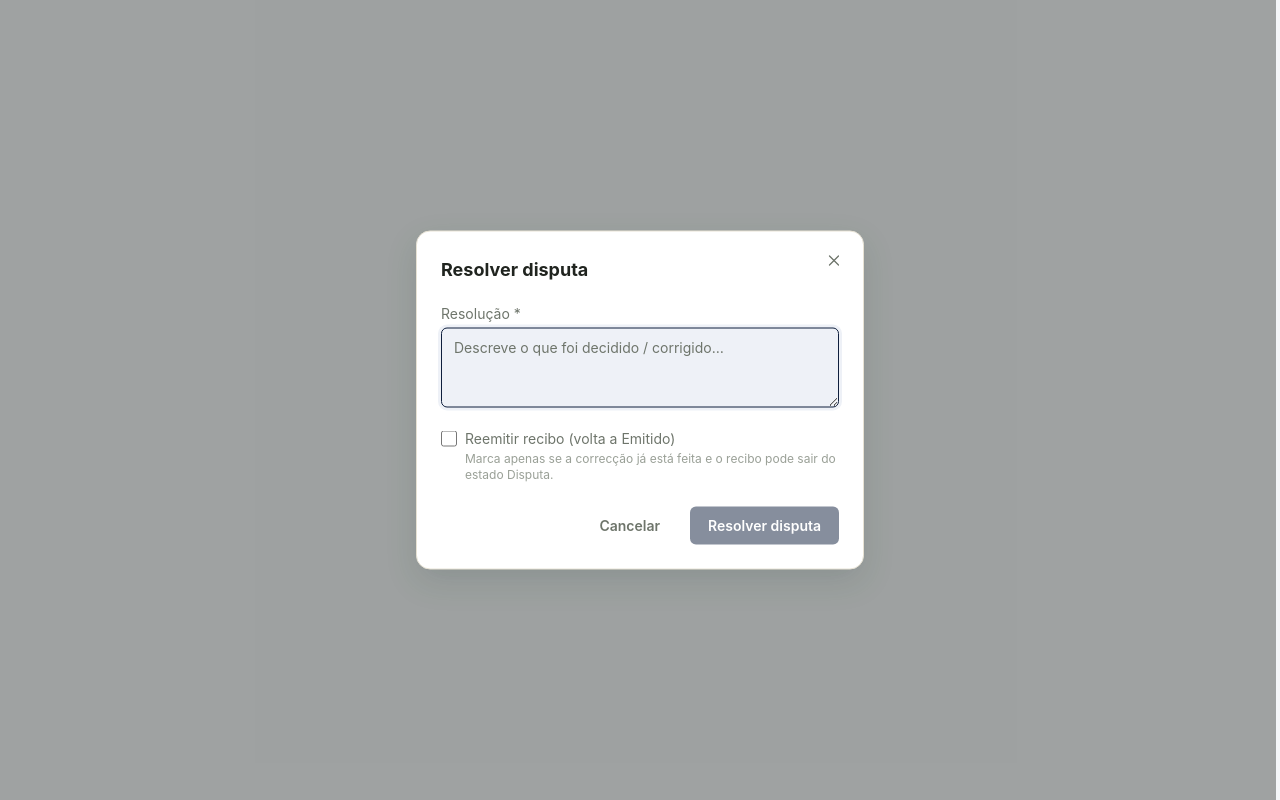
Test: ResolveDisputeModal › confirm is disabled until resolution has text
The width and height of the screenshot is (1280, 800).
Expected: the button "Resolver disputa" is disabled, left=690, top=506, right=839, bottom=544
Type "Corrigido" into the text box labelled "Resolução *".
click(640, 368); type("Corrigido")  # box left=441, top=328, right=839, bottom=408
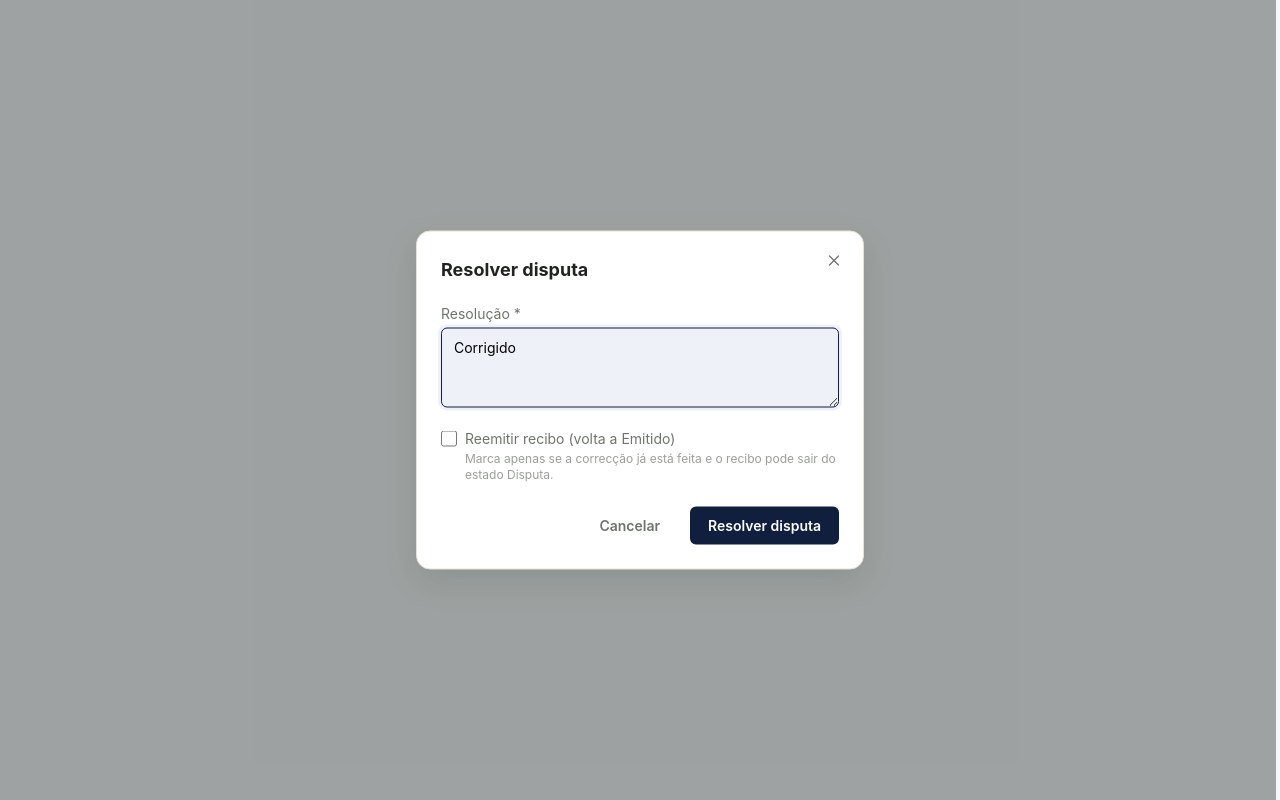
Now the button "Resolver disputa" is enabled, box left=690, top=506, right=839, bottom=544
